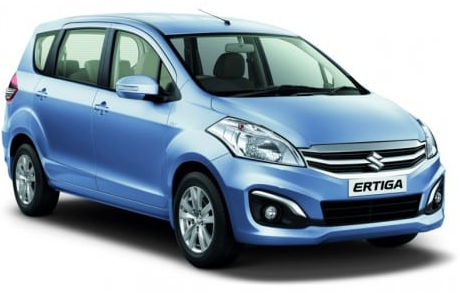car: (1, 11, 447, 273)
